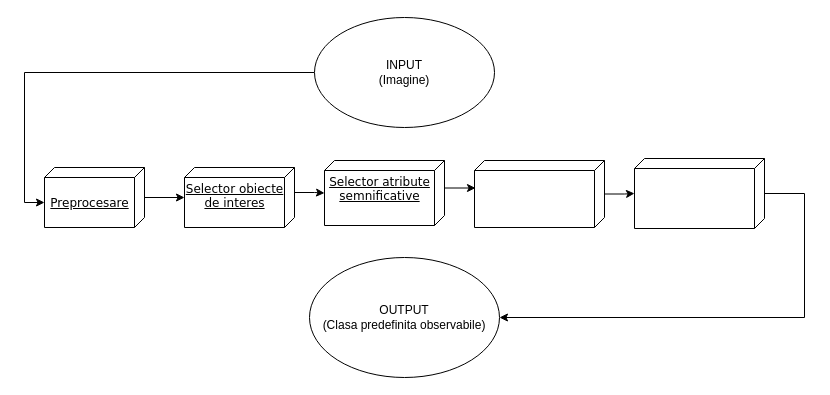
The diagram is 830 pixels wide and 395 high, and some of its shapes have lost their labels. Here are the shapes that lost their labels. From the top down, the box of each, then its label:
(474, 160, 604, 228): Masurare atribute semnificative
(634, 158, 764, 228): Clasificator
